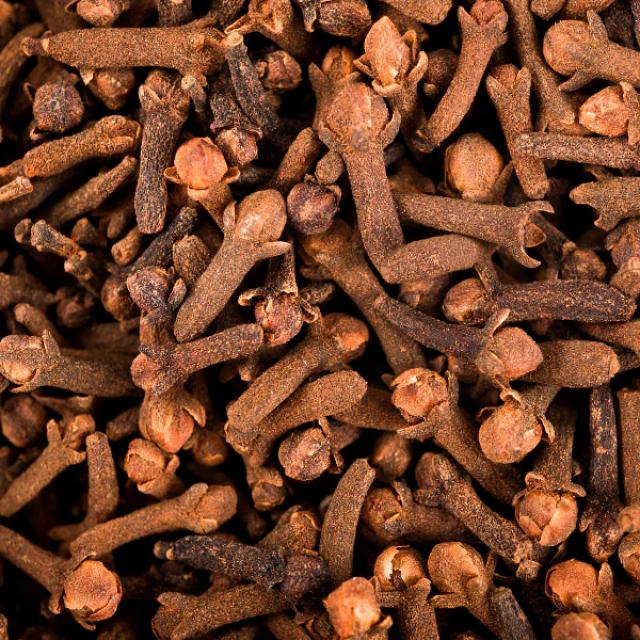clove: (0, 0, 640, 640)
